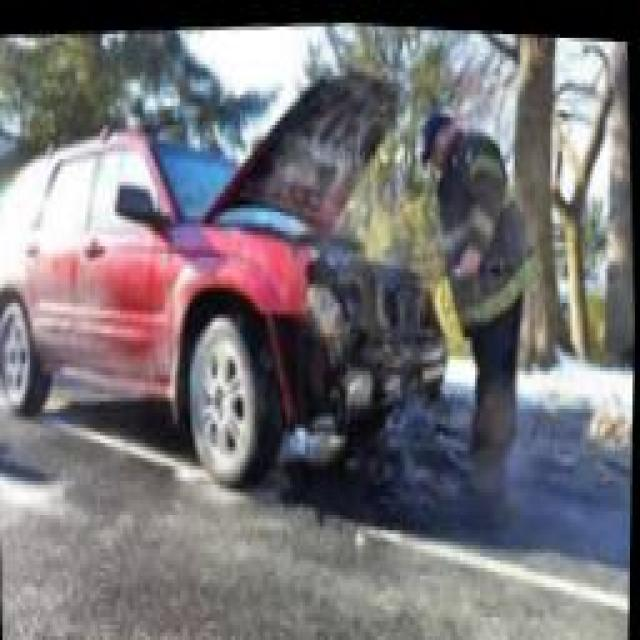Bumper: (292, 235, 452, 402)
